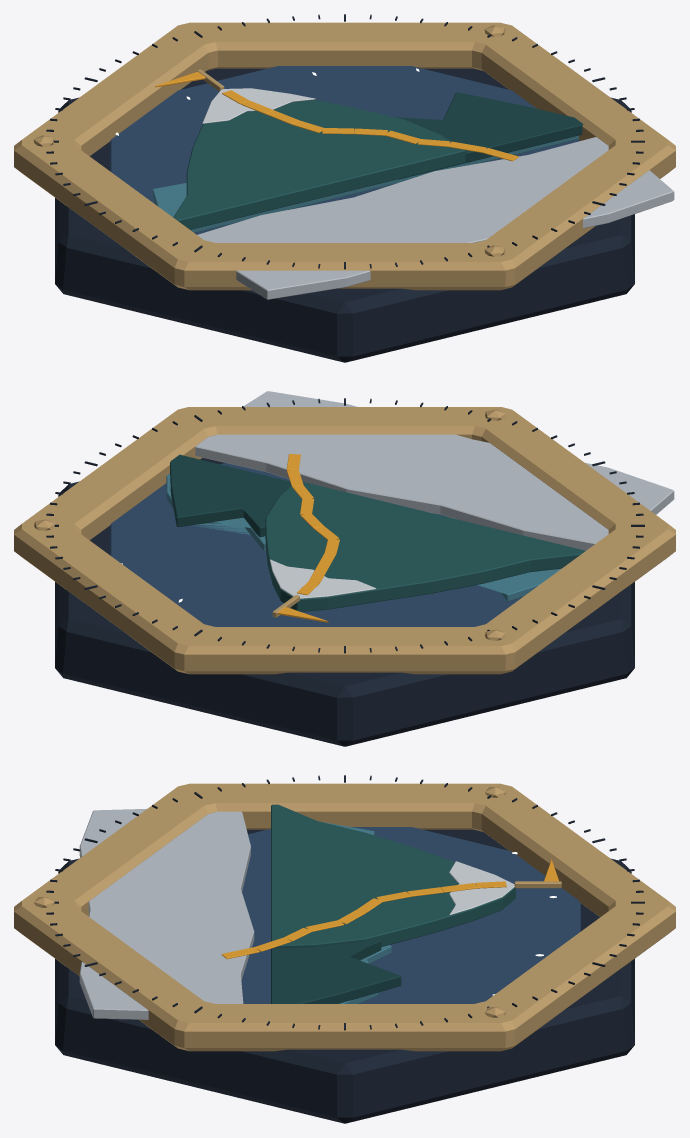
Rendered from first_steps.glb.
3 renders of one model, top to bottom at view 1: azimuth 30°, elevation 25°; view 2: azimuth 150°, elevation 25°; view 3: azimuth 270°, elevation 25°, orthographic.
Parts seen in each view (by area): view 1: BG_FrameRing, BG_BasePlate, FS_ForeSnow, FS_Massif, BG_Field, FS_Secondary, FS_FarRidge, FS_Route, FS_SnowCap, BG_TickScale, BG_Rivets; view 2: BG_FrameRing, BG_BasePlate, FS_ForeSnow, FS_Massif, BG_Field, FS_Secondary, FS_FarRidge, FS_Route, FS_SnowCap, BG_TickScale, BG_Rivets; view 3: BG_FrameRing, BG_BasePlate, FS_ForeSnow, BG_Field, FS_Massif, FS_Secondary, FS_Route, FS_SnowCap, BG_TickScale, BG_Rivets, FS_FarRidge.
Boxes of the visible parts, x1=… form: BG_FrameRing: x1=14, y1=22, x2=675, y2=290; BG_BasePlate: x1=55, y1=68, x2=634, y2=362; FS_ForeSnow: x1=197, y1=137, x2=674, y2=299; FS_Massif: x1=173, y1=99, x2=465, y2=229; BG_Field: x1=109, y1=66, x2=579, y2=234; FS_Secondary: x1=394, y1=92, x2=583, y2=179; FS_FarRidge: x1=152, y1=135, x2=578, y2=232; FS_Route: x1=222, y1=90, x2=518, y2=161; FS_SnowCap: x1=202, y1=88, x2=315, y2=123; BG_TickScale: x1=46, y1=14, x2=644, y2=269; BG_Rivets: x1=33, y1=25, x2=505, y2=256; BG_FrameRing: x1=14, y1=407, x2=675, y2=674; BG_BasePlate: x1=55, y1=458, x2=634, y2=746; FS_ForeSnow: x1=195, y1=391, x2=674, y2=550; FS_Massif: x1=265, y1=482, x2=585, y2=611; BG_Field: x1=109, y1=463, x2=522, y2=626; FS_Secondary: x1=170, y1=454, x2=291, y2=537; FS_FarRidge: x1=166, y1=473, x2=561, y2=601; FS_Route: x1=286, y1=454, x2=339, y2=595; FS_SnowCap: x1=269, y1=559, x2=376, y2=598; BG_TickScale: x1=46, y1=398, x2=644, y2=653; BG_Rivets: x1=34, y1=409, x2=505, y2=640; BG_FrameRing: x1=14, y1=783, x2=675, y2=1051; BG_BasePlate: x1=55, y1=829, x2=634, y2=1123; FS_ForeSnow: x1=79, y1=809, x2=254, y2=1019; BG_Field: x1=241, y1=827, x2=580, y2=1003; FS_Massif: x1=271, y1=804, x2=515, y2=948; FS_Secondary: x1=271, y1=939, x2=401, y2=1003; FS_Route: x1=221, y1=881, x2=506, y2=959; FS_SnowCap: x1=449, y1=861, x2=514, y2=915; BG_TickScale: x1=46, y1=775, x2=644, y2=1030; BG_Rivets: x1=34, y1=787, x2=505, y2=1017; FS_FarRidge: x1=322, y1=822, x2=391, y2=1003.
Bounding box in the file's own units: 0.0393 × 0.00585 × 0.0394.
